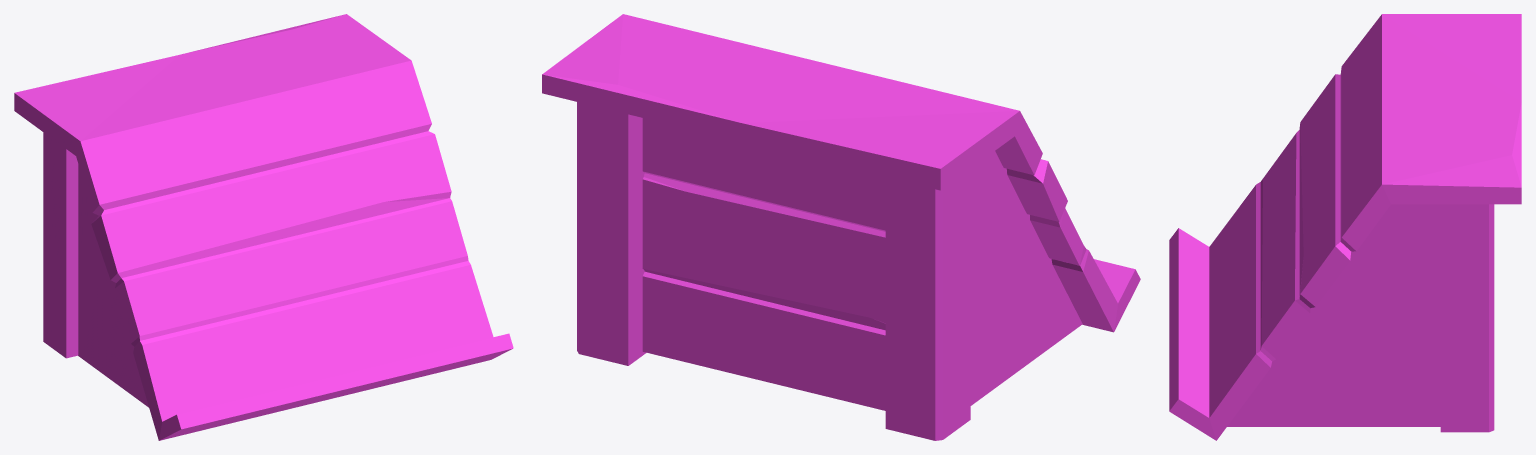
File: SM_WritingSlope_A_Fantasy.fbx
3 renders of one model, left to right at view 1: azimuth 30°, elevation 25°; view 2: azimuth 150°, elevation 25°; view 3: azimuth 270°, elevation 25°, orthographic. The views are drawn at different scales.
Visible parts, largest first — view 1: SM_WritingSlope_A_Fantasy; view 2: SM_WritingSlope_A_Fantasy; view 3: SM_WritingSlope_A_Fantasy.
Part boxes in pixels (bbox=[...]): SM_WritingSlope_A_Fantasy: bbox=[14, 14, 513, 440]; SM_WritingSlope_A_Fantasy: bbox=[542, 14, 1140, 440]; SM_WritingSlope_A_Fantasy: bbox=[1169, 14, 1521, 440].
Bounding box in the file's own units: 0.5521 × 0.378 × 0.4724.
